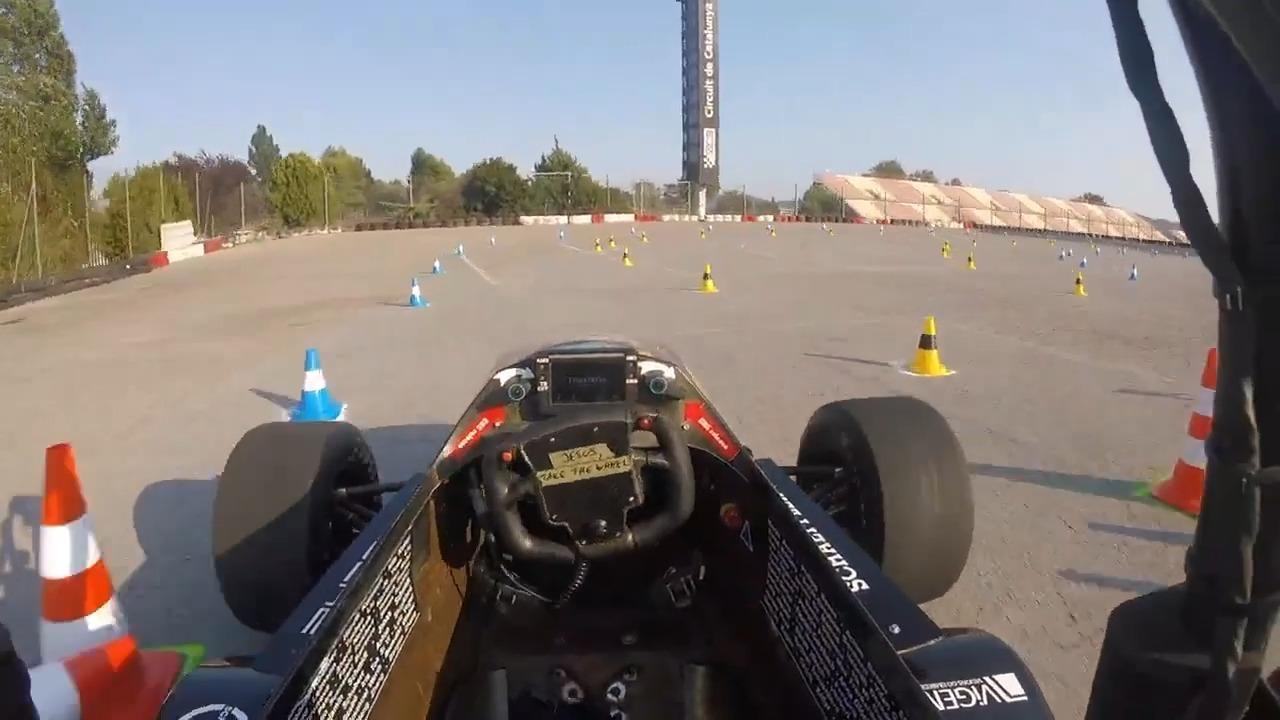blue_cone: (290, 348, 347, 432), (407, 278, 429, 309), (431, 256, 445, 276), (1127, 264, 1140, 282), (456, 241, 466, 257), (1079, 255, 1088, 270), (488, 233, 498, 246), (1059, 247, 1067, 261), (558, 229, 566, 240)
large_orange_cone: (4, 441, 195, 716), (1151, 340, 1253, 519), (0, 617, 144, 720)
yellow_cone: (900, 311, 951, 377), (695, 262, 718, 294), (1070, 272, 1088, 297), (619, 246, 634, 268), (966, 253, 978, 271), (593, 236, 604, 254), (607, 234, 617, 250), (941, 245, 948, 259)
